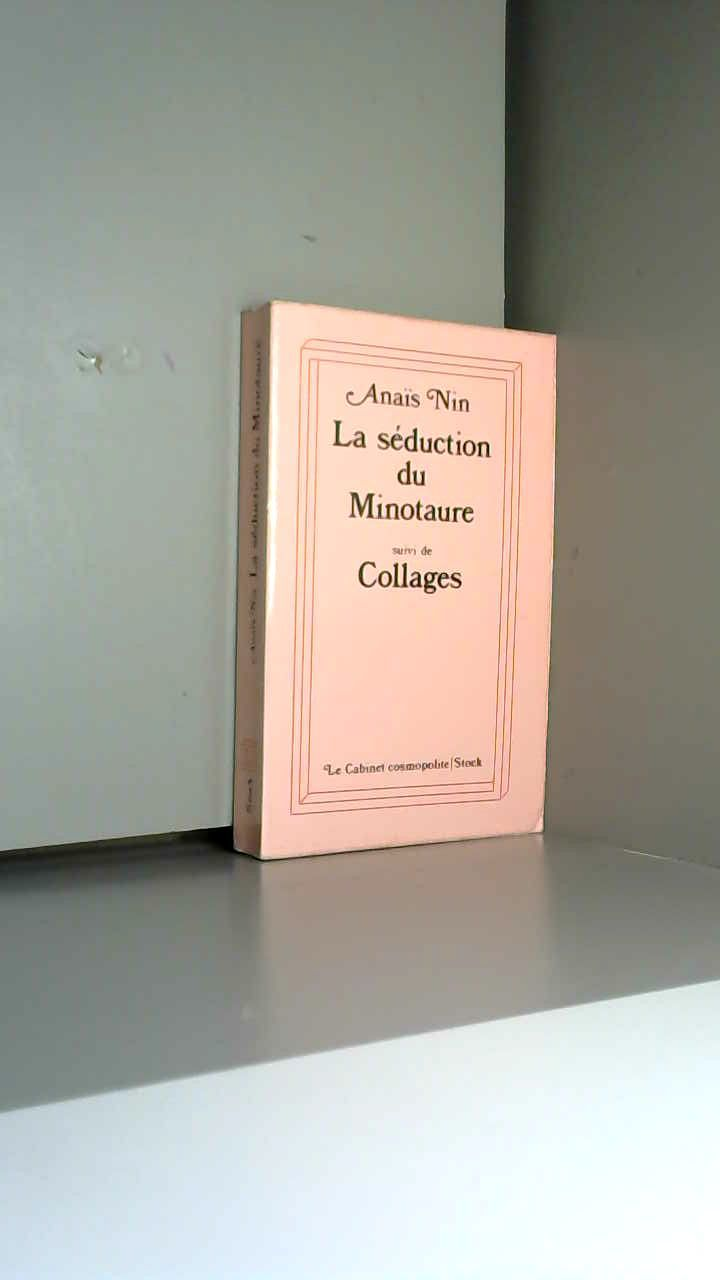book: (202, 261, 589, 910)
